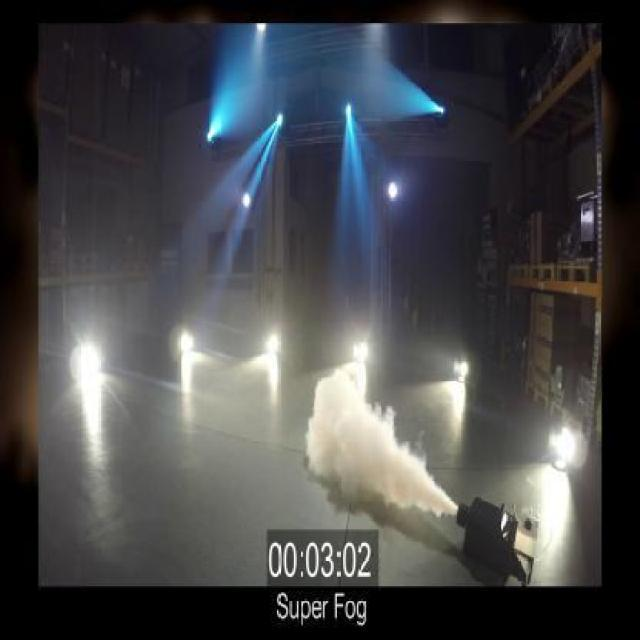fire: (303, 359, 448, 518)
